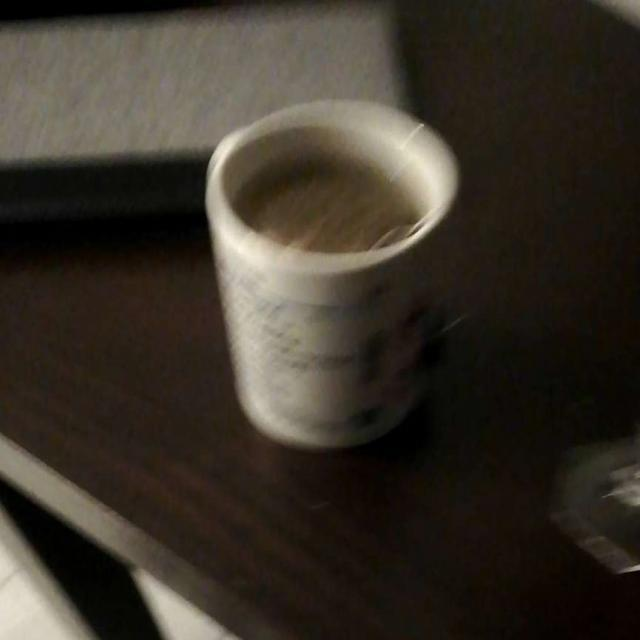tea: (230, 137, 433, 268)
